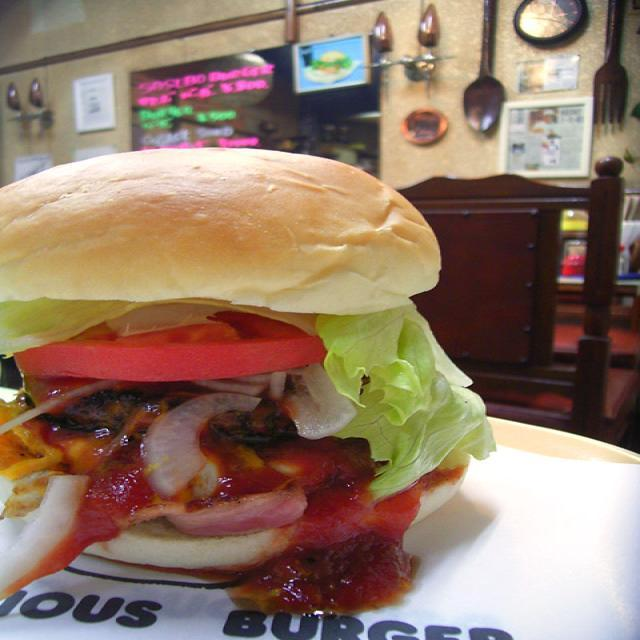Hamburger: (0, 142, 492, 624)
